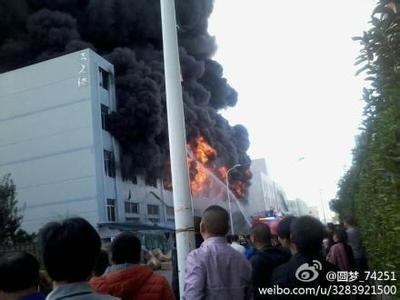fire: (186, 136, 247, 196)
